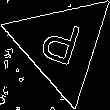P_S: (37, 15, 87, 75)
